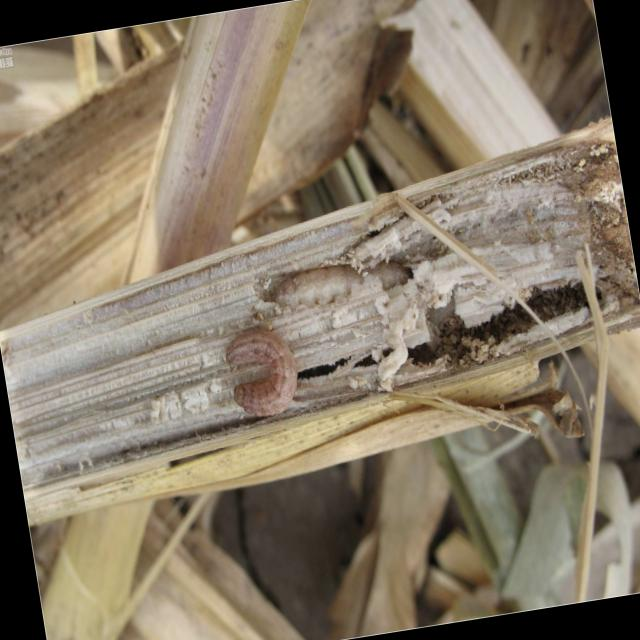pest: (268, 251, 407, 318), (221, 324, 303, 428), (282, 279, 283, 280)
